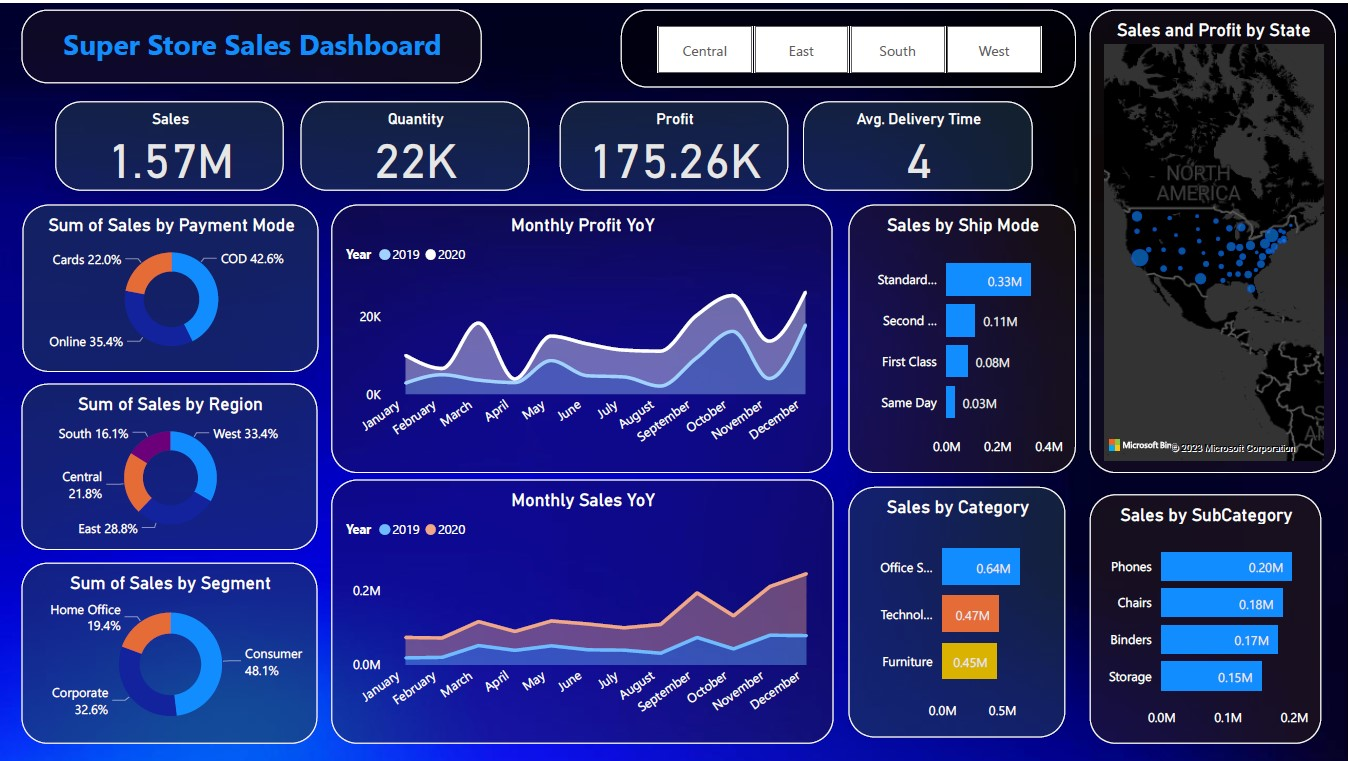

The page's visual inventory and layout, read from the dashboard file:
{"tool":"powerbi","page":{"name":"Page 1","canvas":[1280,720],"ordinal":0},"visuals":[{"type":"barChart","title":"Sales by Category","fields":{"Category":["SuperStore_Sales_Dataset.Category"],"Y":["Sum(SuperStore_Sales_Dataset.Sales)"]},"box":[805.6,459.5,206.2,237.6],"z":0},{"type":"barChart","title":"Sales by SubCategory","fields":{"Category":["SuperStore_Sales_Dataset.Sub-Category"],"Y":["Sum(SuperStore_Sales_Dataset.Sales)"]},"box":[1034.8,465.5,220.7,237.6],"z":1000},{"type":"barChart","title":"Sales by Ship Mode","fields":{"Y":["Sum(SuperStore_Sales_Dataset.Sales)"],"Category":["SuperStore_Sales_Dataset.Ship Mode"]},"box":[805.6,190.6,215.9,255.7],"z":2000},{"type":"stackedAreaChart","title":"Monthly Sales YoY","fields":{"Y":["Sum(SuperStore_Sales_Dataset.Sales)"],"Category":["SuperStore_Sales_Dataset.Order Date.Variation.Date Hierarchy.Month","SuperStore_Sales_Dataset.Order Date.Variation.Date Hierarchy.Day"],"Series":["SuperStore_Sales_Dataset.Order Date.Variation.Date Hierarchy.Year"]},"box":[314.8,452.3,477.6,250.9],"z":3000},{"type":"stackedAreaChart","title":"Monthly Profit YoY","fields":{"Category":["SuperStore_Sales_Dataset.Order Date.Variation.Date Hierarchy.Month","SuperStore_Sales_Dataset.Order Date.Variation.Date Hierarchy.Day"],"Series":["SuperStore_Sales_Dataset.Order Date.Variation.Date Hierarchy.Year"],"Y":["Sum(SuperStore_Sales_Dataset.Profit)"]},"box":[314.8,190.6,476.4,255.7],"z":4000},{"type":"map","title":"Sales and Profit by State","fields":{"Category":["SuperStore_Sales_Dataset.State"],"Size":["Sum(SuperStore_Sales_Dataset.Sales)"]},"box":[1034.8,6,234,440.2],"z":5000},{"type":"donutChart","fields":{"Category":["SuperStore_Sales_Dataset.Region"],"Y":["Sum(SuperStore_Sales_Dataset.Sales)"]},"box":[20.5,360.6,281,158],"z":6000},{"type":"donutChart","fields":{"Category":["SuperStore_Sales_Dataset.Segment"],"Y":["Sum(SuperStore_Sales_Dataset.Sales)"]},"box":[20.5,530.7,281,172.5],"z":7000},{"type":"donutChart","fields":{"Category":["SuperStore_Sales_Dataset.Payment Mode"],"Y":["Sum(SuperStore_Sales_Dataset.Sales)"]},"box":[21.7,190.6,281,159.2],"z":8000},{"type":"slicer","fields":{"Values":["SuperStore_Sales_Dataset.Region"]},"box":[589.7,6,431.8,73.6],"z":9000},{"type":"textbox","box":[20.5,6,437.8,69.9],"z":10000},{"type":"card","title":"Sales","fields":{"Values":["Sum(SuperStore_Sales_Dataset.Sales)"]},"box":[53.1,92.9,217.1,85.6],"z":11000},{"type":"card","title":"Quantity","fields":{"Values":["Sum(SuperStore_Sales_Dataset.Quantity)"]},"box":[285.8,92.9,217.1,85.6],"z":12000},{"type":"card","title":"Profit","fields":{"Values":["Sum(SuperStore_Sales_Dataset.Profit)"]},"box":[531.9,92.9,217.1,85.6],"z":13000},{"type":"card","title":"Avg. Delivery Time","fields":{"Values":["Avg(SuperStore_Sales_Dataset.Avg Delivery)"]},"box":[763.4,92.9,217.1,85.6],"z":14000}]}

Visuals, with their boxes in screenshot pixels (x1, y1, x2, y2), scaled from the page's 1280x720 canvas onto the 1350x761 screenshot:
"Sales by Category" barChart: BBox(850, 486, 1067, 737)
"Sales by SubCategory" barChart: BBox(1091, 492, 1324, 743)
"Sales by Ship Mode" barChart: BBox(850, 201, 1077, 472)
"Monthly Sales YoY" stackedAreaChart: BBox(332, 478, 836, 743)
"Monthly Profit YoY" stackedAreaChart: BBox(332, 201, 834, 472)
"Sales and Profit by State" map: BBox(1091, 6, 1338, 472)
donutChart - SuperStore_Sales_Dataset.Region x Sum(SuperStore_Sales_Dataset.Sales): BBox(22, 381, 318, 548)
donutChart - SuperStore_Sales_Dataset.Segment x Sum(SuperStore_Sales_Dataset.Sales): BBox(22, 561, 318, 743)
donutChart - SuperStore_Sales_Dataset.Payment Mode x Sum(SuperStore_Sales_Dataset.Sales): BBox(23, 201, 319, 370)
slicer - SuperStore_Sales_Dataset.Region: BBox(622, 6, 1077, 84)
textbox: BBox(22, 6, 483, 80)
"Sales" card: BBox(56, 98, 285, 189)
"Quantity" card: BBox(301, 98, 530, 189)
"Profit" card: BBox(561, 98, 790, 189)
"Avg. Delivery Time" card: BBox(805, 98, 1034, 189)
